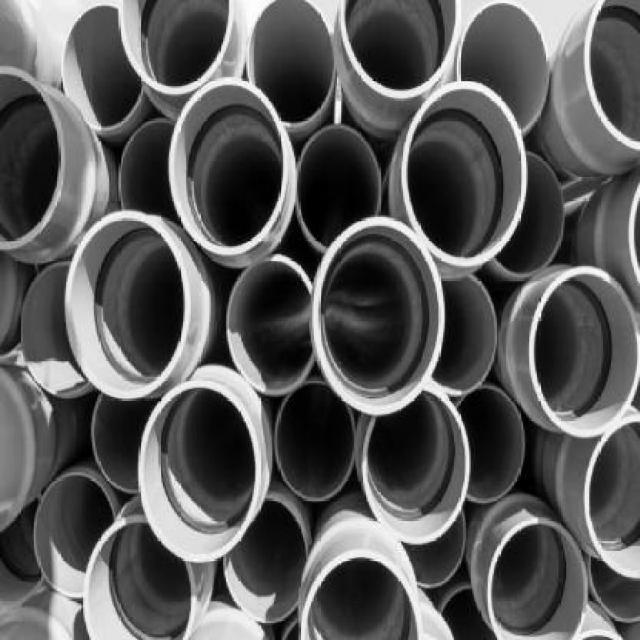pipe: (312, 216, 445, 416), (65, 211, 191, 400), (401, 81, 527, 267), (138, 381, 263, 562), (169, 76, 288, 256), (529, 266, 640, 440), (361, 383, 470, 545), (83, 514, 196, 640), (457, 1, 550, 137), (487, 516, 589, 639), (0, 65, 66, 250), (227, 258, 316, 395), (338, 1, 460, 100), (246, 0, 337, 128), (117, 0, 234, 95), (299, 550, 421, 639), (297, 125, 382, 252), (224, 497, 308, 625), (33, 471, 115, 599), (62, 4, 144, 132), (275, 381, 354, 501), (492, 150, 566, 278), (20, 261, 89, 398), (583, 414, 639, 580), (456, 387, 525, 505), (432, 275, 497, 395), (118, 118, 186, 232), (91, 392, 159, 494)
